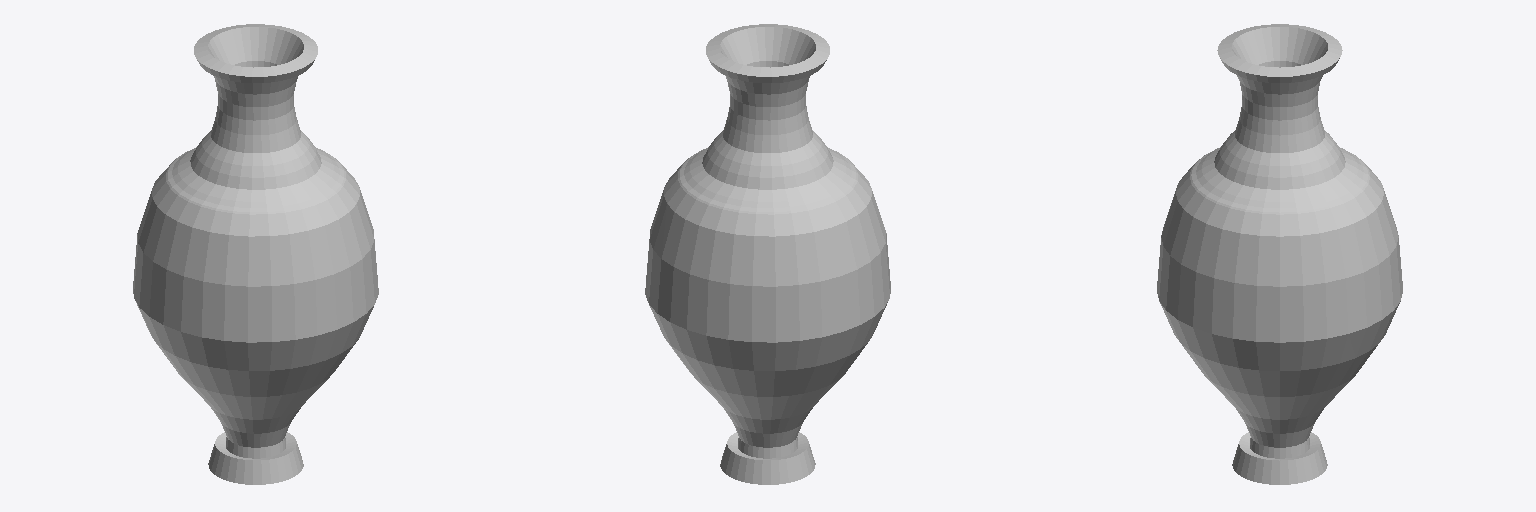
File: Ancient_Vase.obj
3 views of the same model, side by side, from view 1: azimuth 30°, elevation 25°; view 2: azimuth 150°, elevation 25°; view 3: azimuth 270°, elevation 25° (orthographic).
Visible parts, largest first — view 1: Sphere.004; view 2: Sphere.004; view 3: Sphere.004.
Part boxes in pixels (x1,y1,x2,y2): Sphere.004: (133,24,378,484); Sphere.004: (645,24,890,484); Sphere.004: (1157,24,1402,484).
Size of the model in its own units: 1.49 by 2.78 by 1.49.